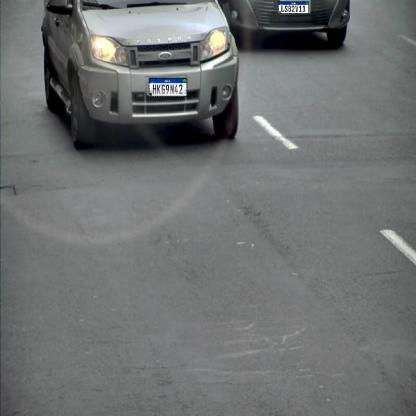PlacaM: (149, 78, 187, 97), (278, 1, 309, 14)
